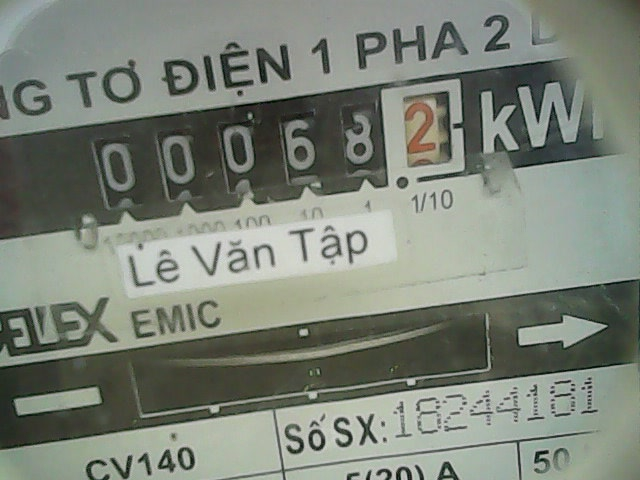phy_plate: (78, 77, 472, 211)
